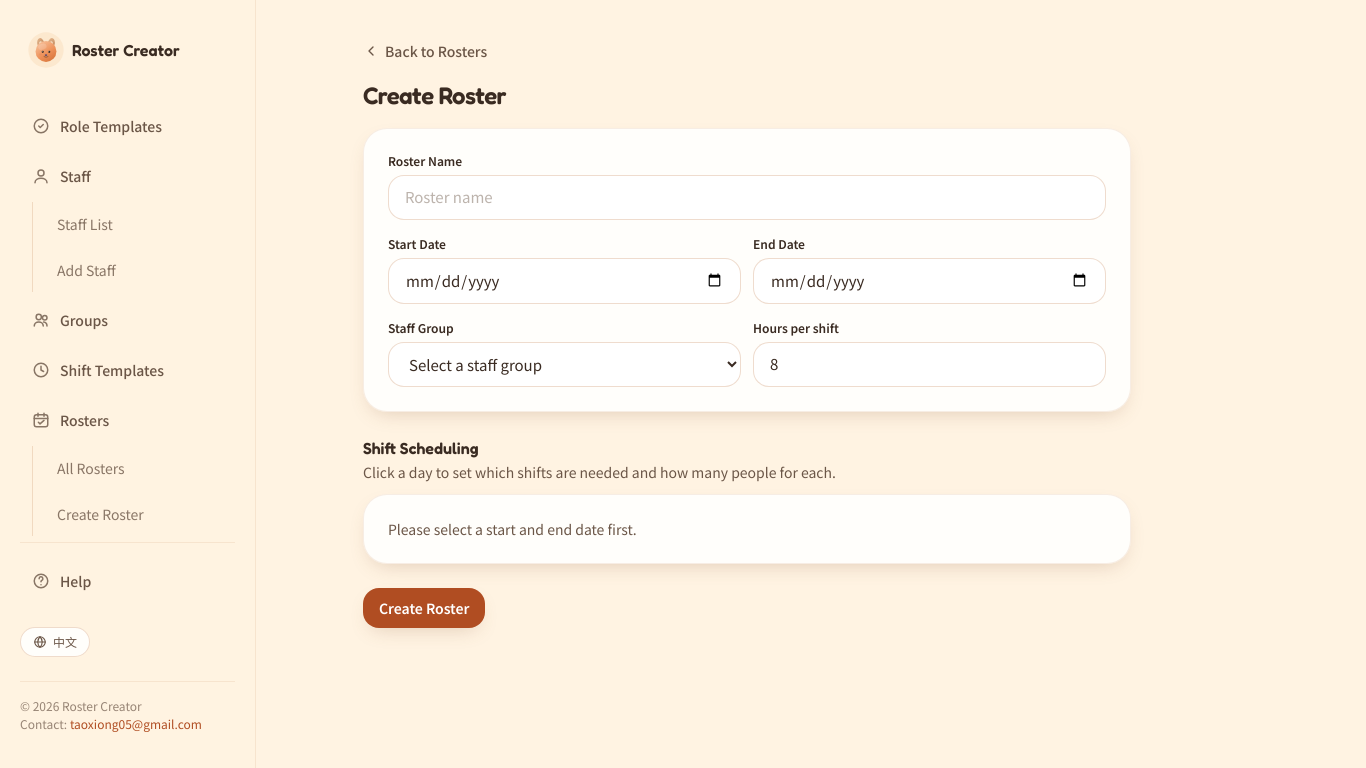
RosterCreatePage › blocks submission with a clear message when no shifts are set
In the field with placeholder "Roster name": (747, 197) [388,175,1106,220], type "Week 34"
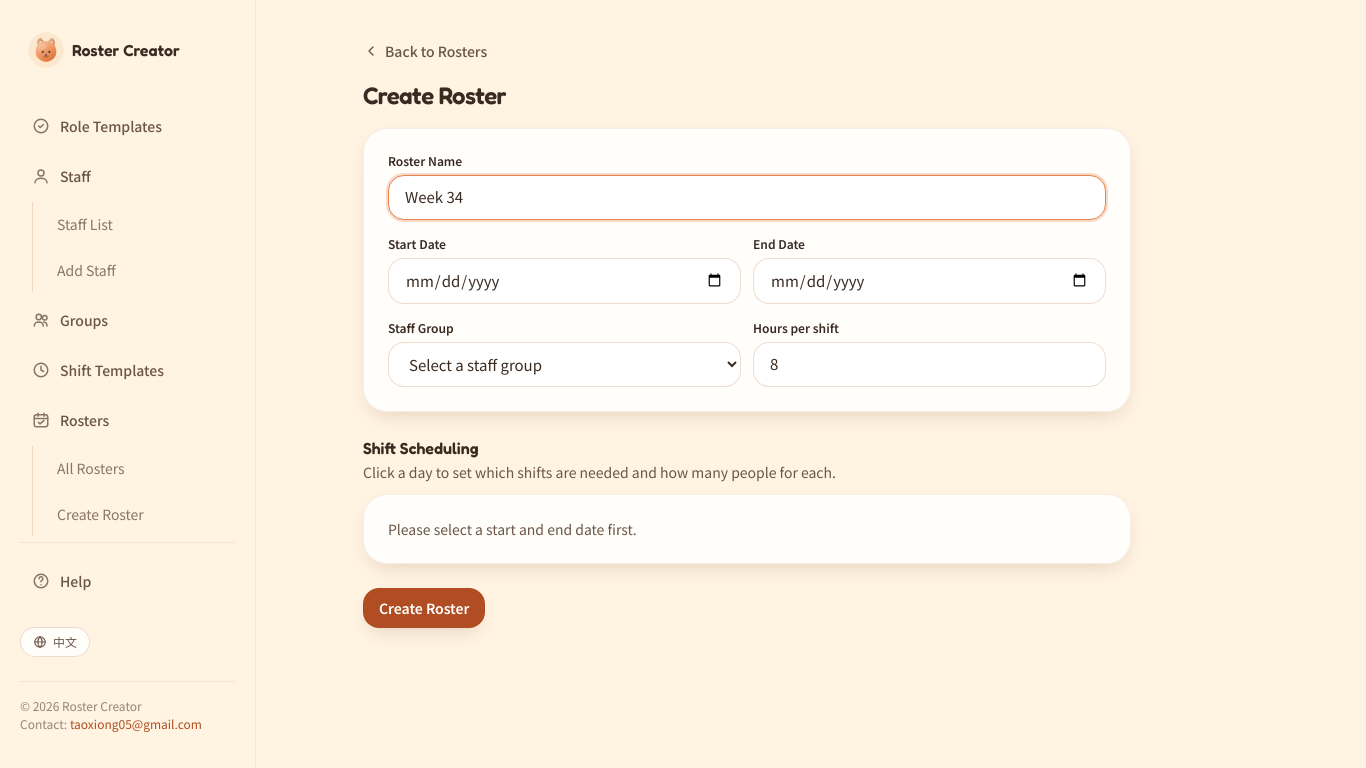
In the date field named "Start Date": (564, 281) [388,258,741,304], type "2026-08-17"
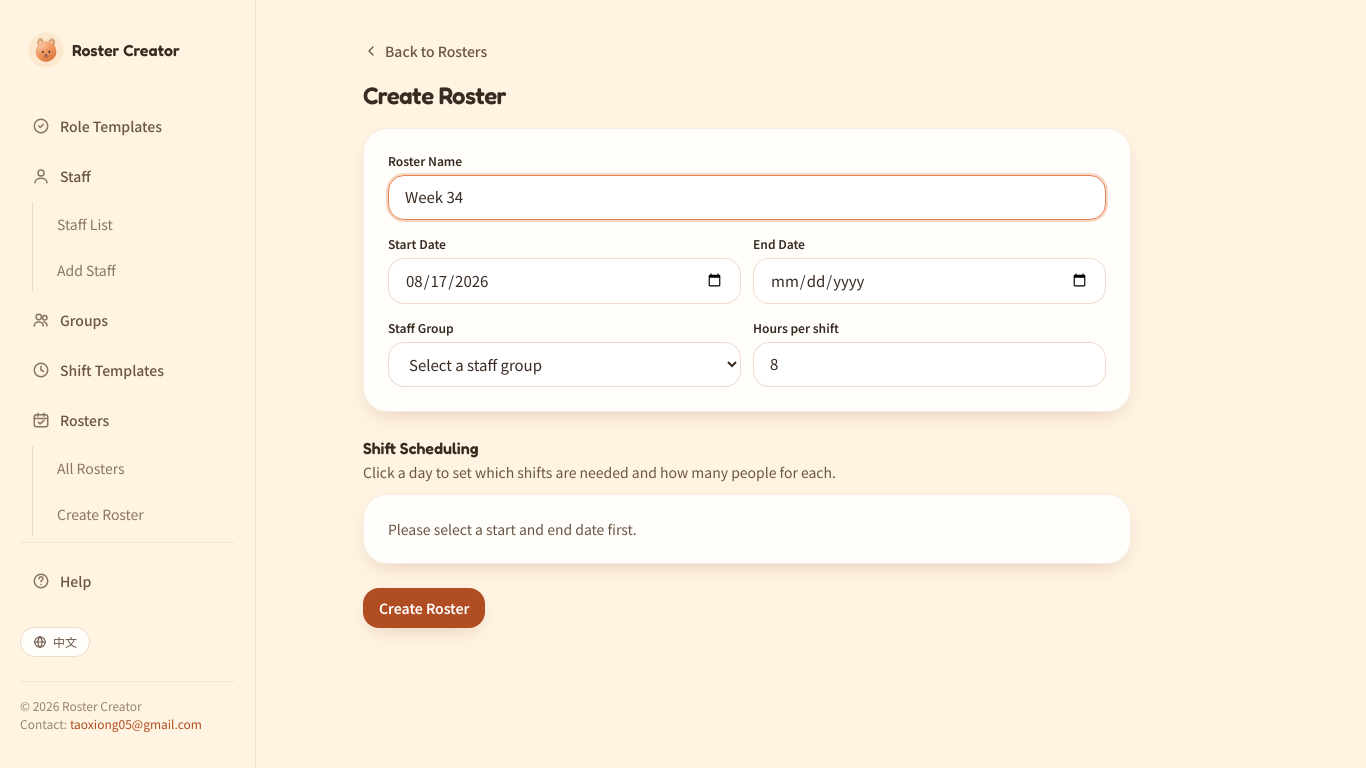
In the date field named "End Date": (930, 281) [753,258,1106,304], type "2026-08-18"
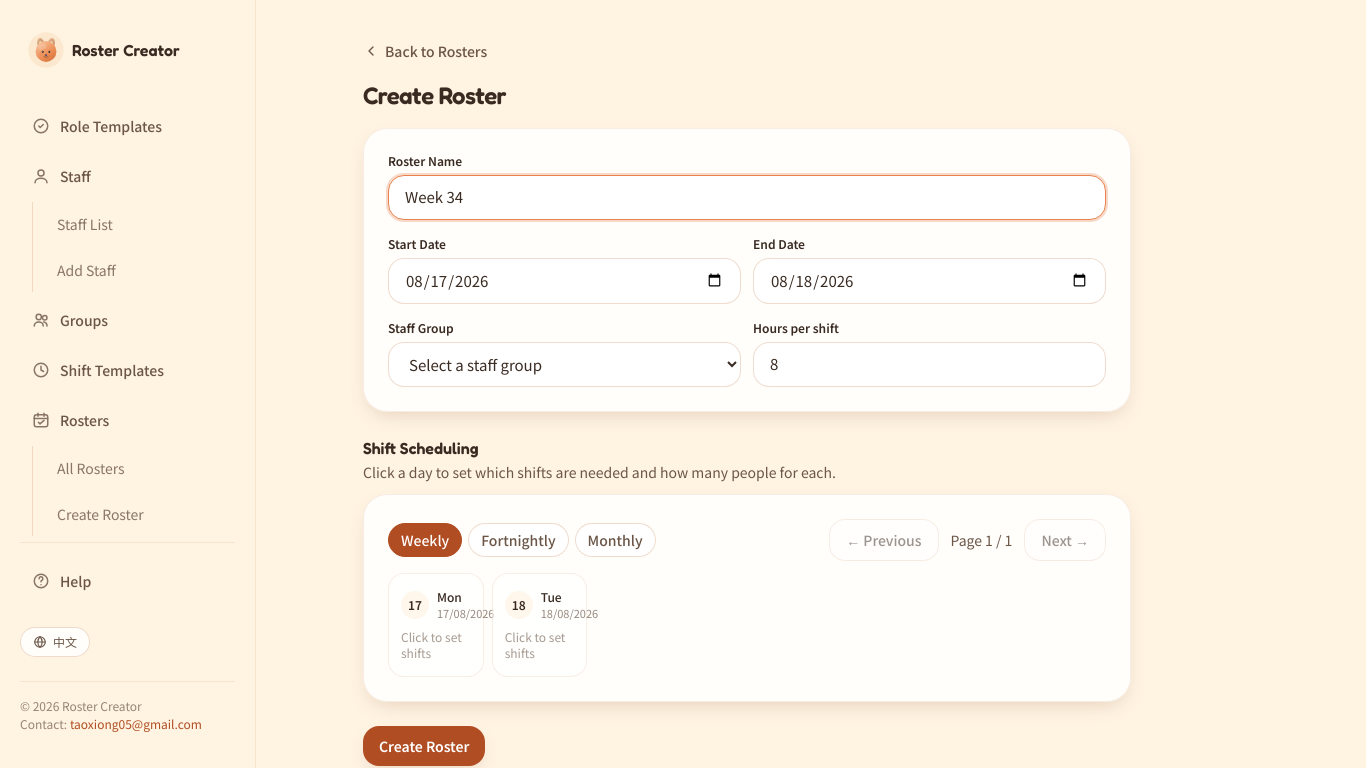
Select "Kitchen" in the dropdown named "Staff Group": (564, 364) [388,342,741,387]
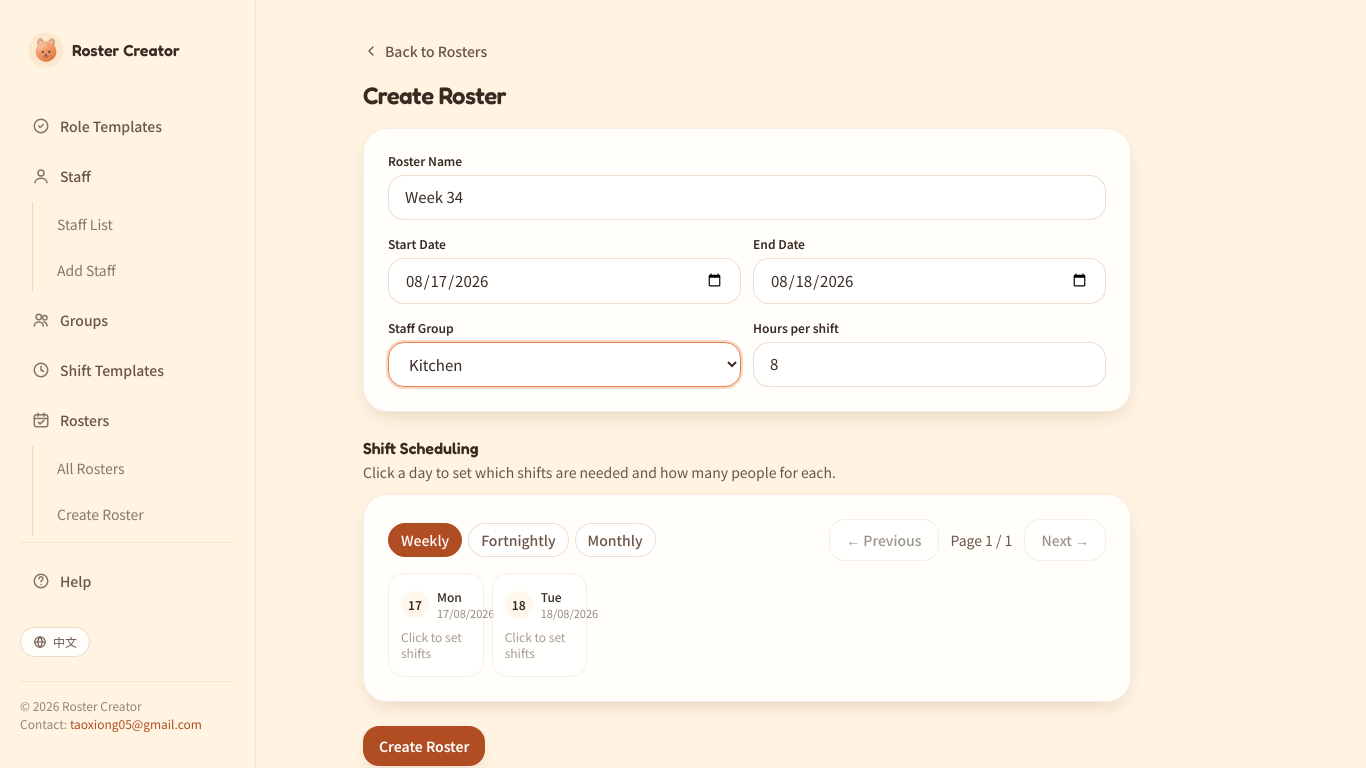
Click the button "Create Roster": (424, 746) [363,726,486,766]
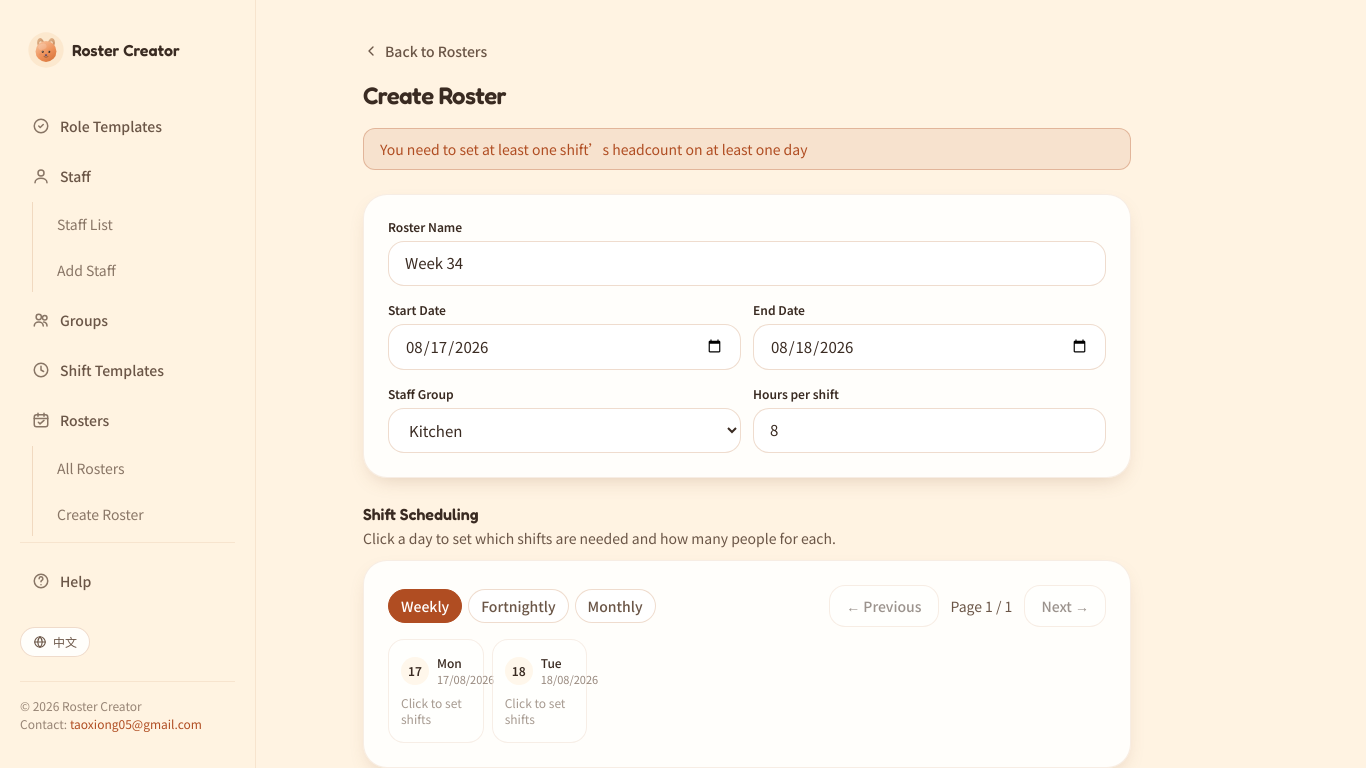
Now the message reads "You need to set at least one shift’s headcount on at least one day", box [380,139,807,159]
